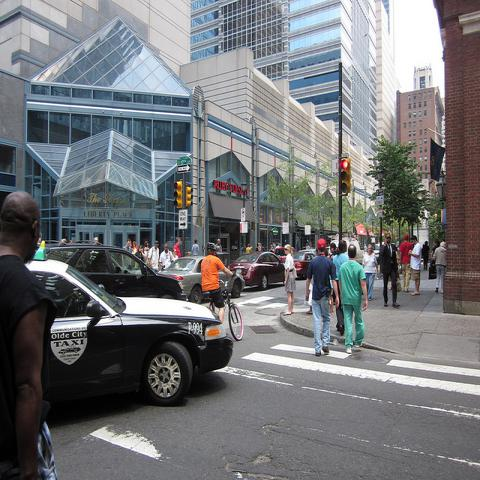car: (37, 262, 234, 405), (44, 244, 187, 304), (159, 256, 246, 304), (227, 251, 286, 290), (292, 249, 316, 278), (373, 244, 379, 259)
